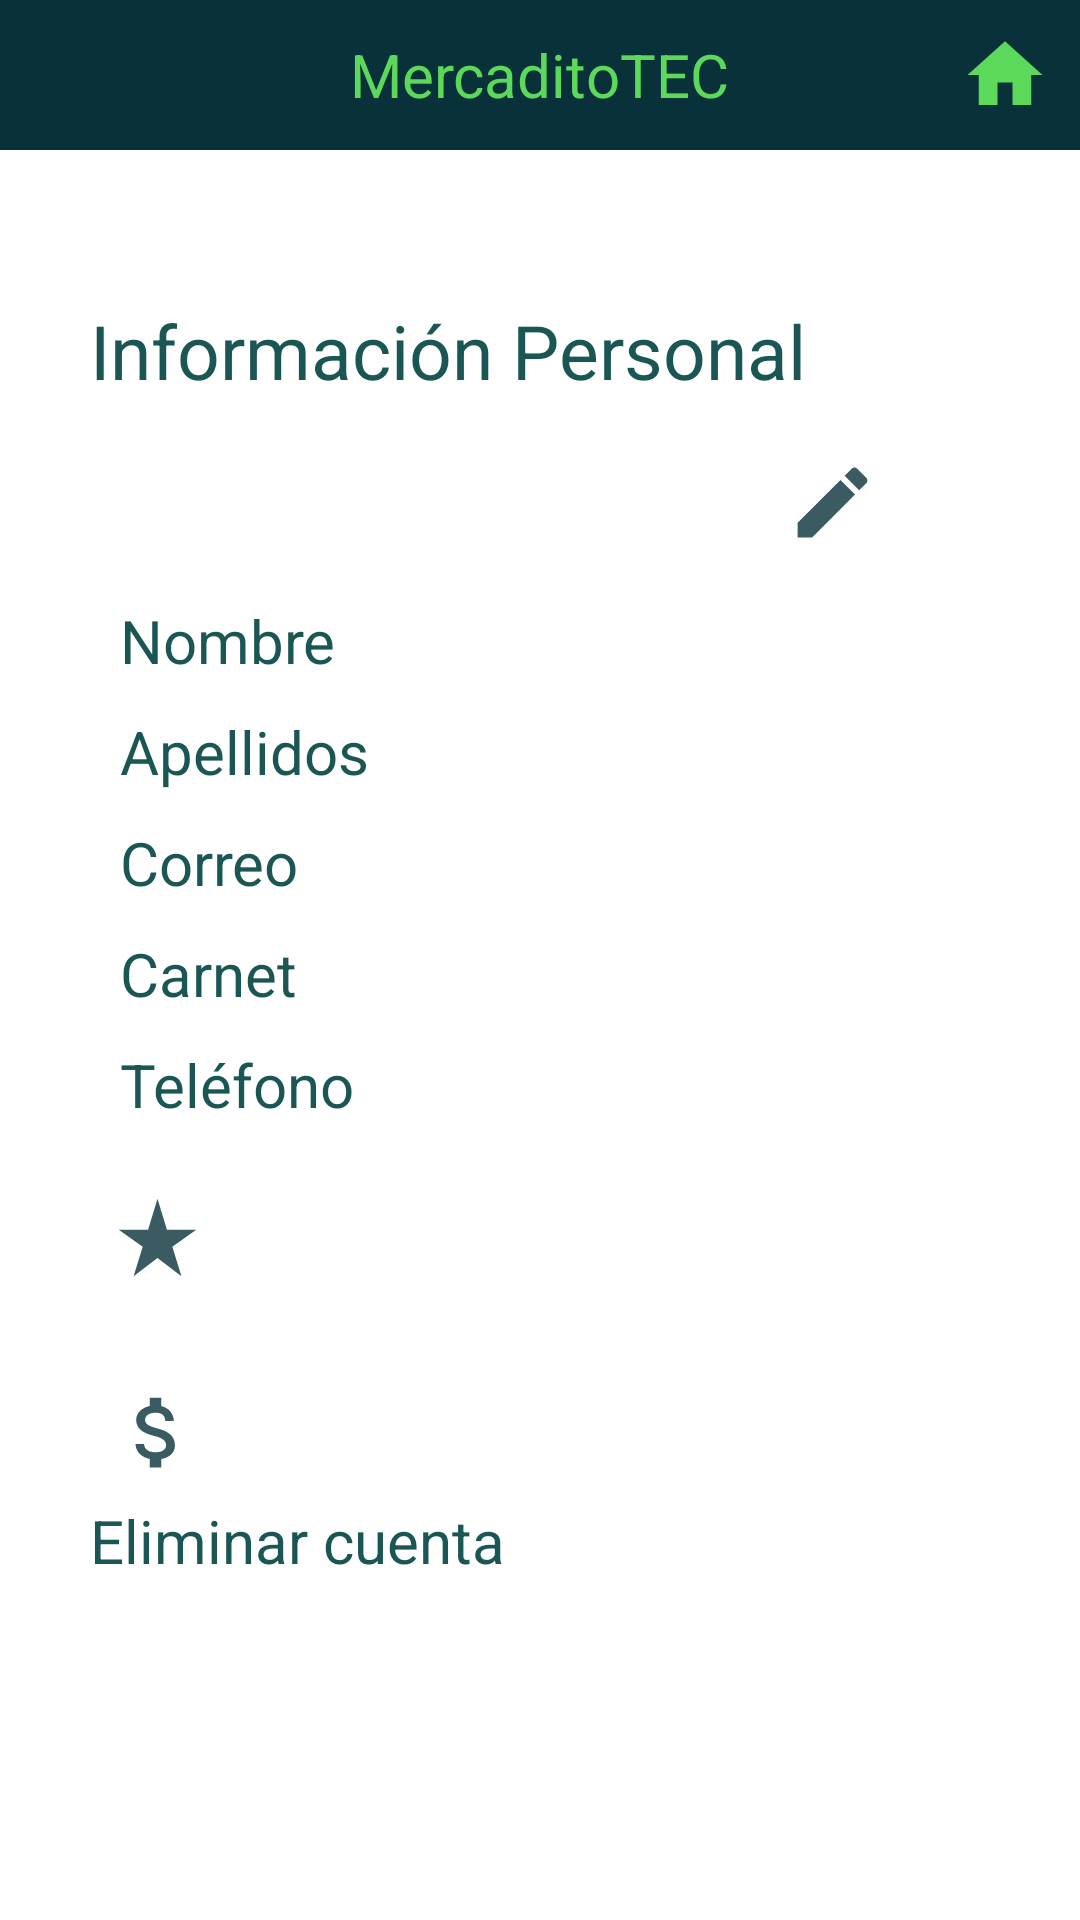

Screen size 1080 x 1920. Icon name, then its center in pixels as point (x, y):
edit: point (832, 502)
home: point (1005, 73)
money: point (155, 1432)
stars: point (157, 1237)
